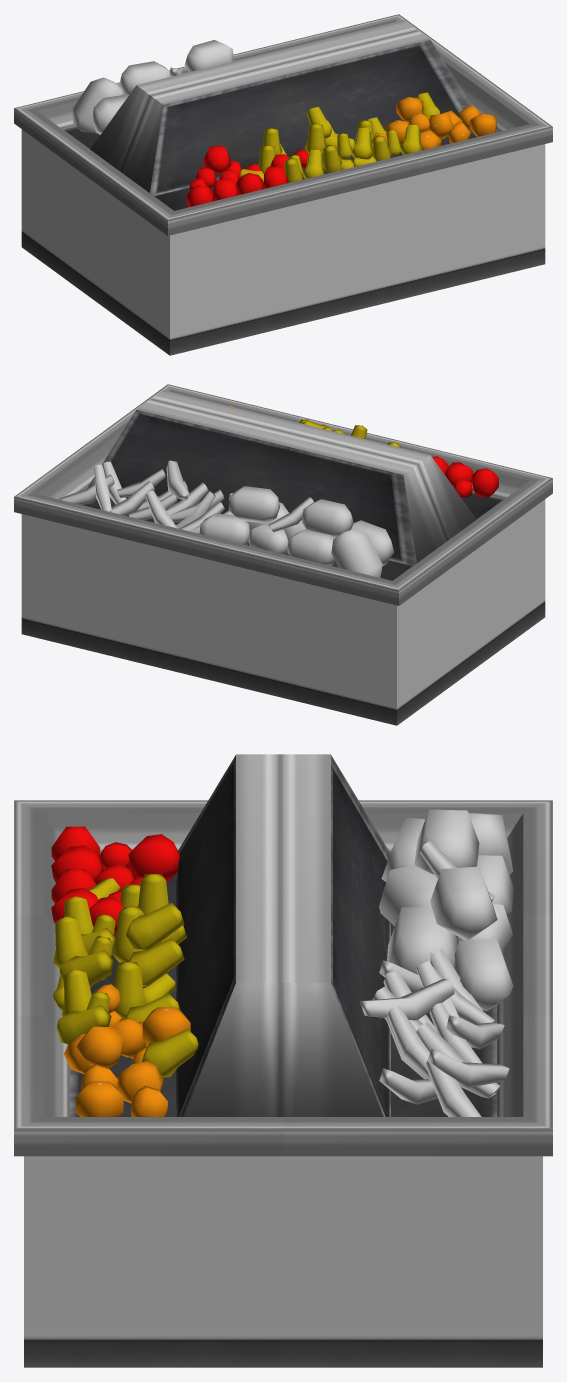
File: Messy_Produce_Shelves_Single.fbx
3 views of the same model, one above another, from view 1: azimuth 30°, elevation 25°; view 2: azimuth 150°, elevation 25°; view 3: azimuth 270°, elevation 25° (orthographic). The views are drawn at different scales.
Visible parts, largest first — view 1: Messy_Produce_Shelves_Single; view 2: Messy_Produce_Shelves_Single; view 3: Messy_Produce_Shelves_Single.
Part boxes in pixels (box(x1,y1,x2,y2)): Messy_Produce_Shelves_Single: box(14, 14, 552, 355); Messy_Produce_Shelves_Single: box(14, 384, 552, 725); Messy_Produce_Shelves_Single: box(14, 754, 552, 1367).
Size of the model in its own units: 299 by 143 by 207.
